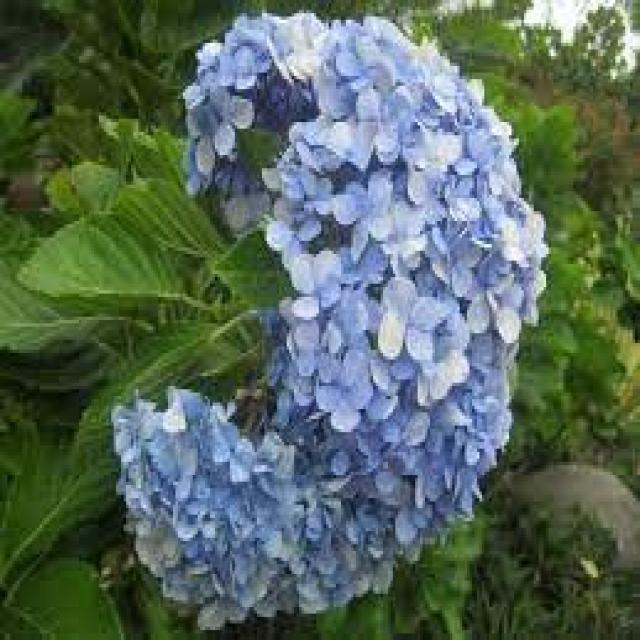Flower: (116, 7, 549, 624)
